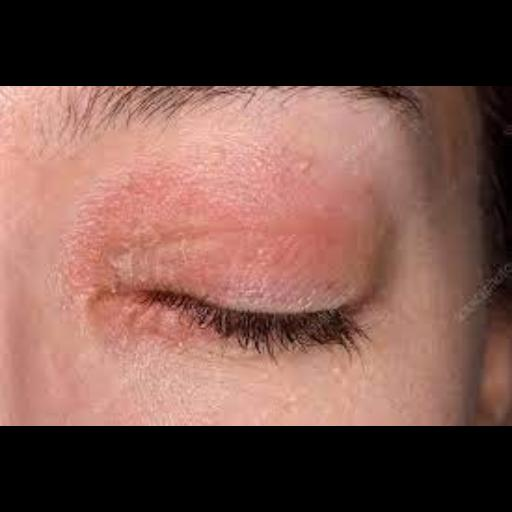Skin_Lesion: (105, 224, 159, 256), (84, 283, 116, 317), (294, 156, 318, 182), (98, 258, 130, 276), (235, 285, 263, 303)
